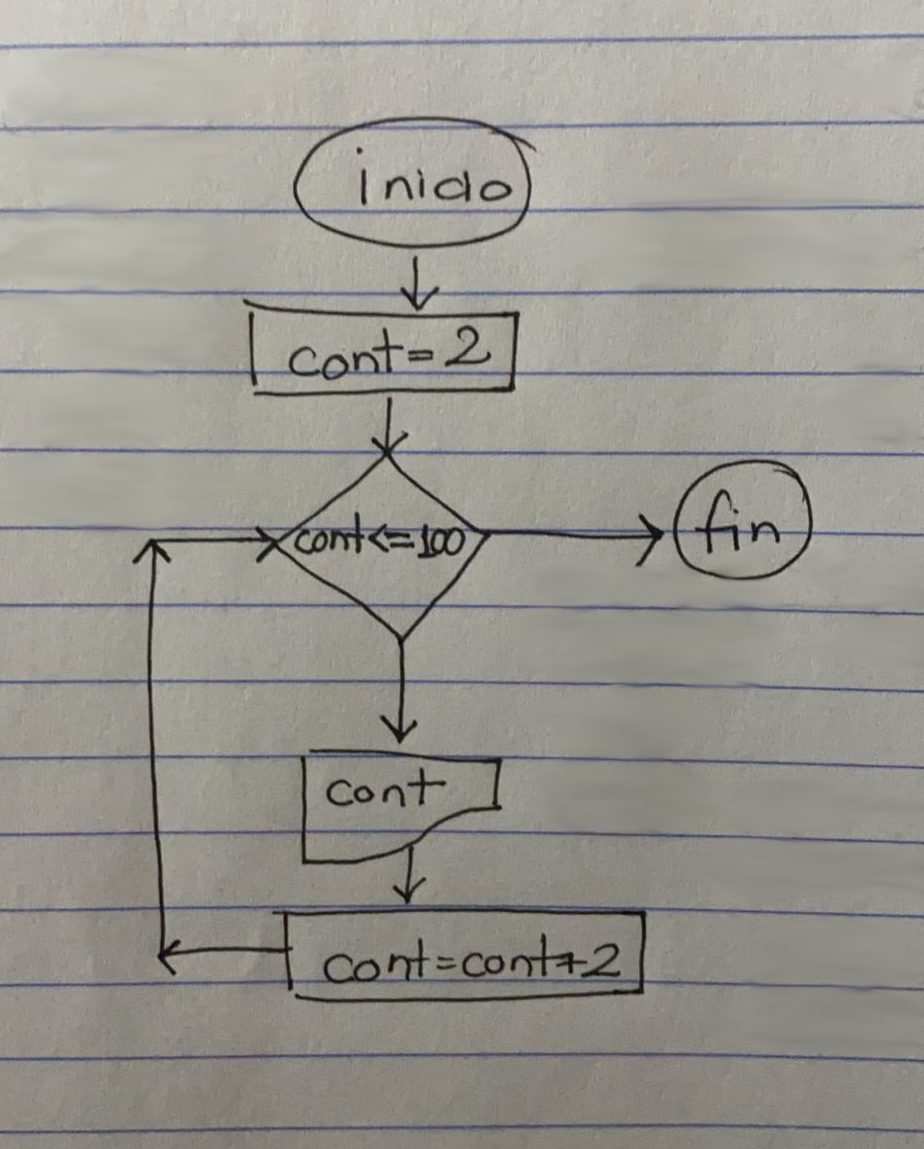arrow_line_down: (379, 642, 422, 751), (366, 388, 411, 462), (395, 254, 439, 313), (394, 846, 426, 908)
arrow_line_left: (156, 935, 288, 976)
arrow_line_right: (484, 510, 667, 567), (150, 524, 277, 568)
arrow_line_up: (129, 538, 176, 960)
decision: (271, 454, 490, 638)
print: (294, 742, 507, 868)
process: (276, 901, 648, 1001), (239, 308, 527, 400)
start_end: (284, 113, 547, 251), (672, 455, 817, 587)
